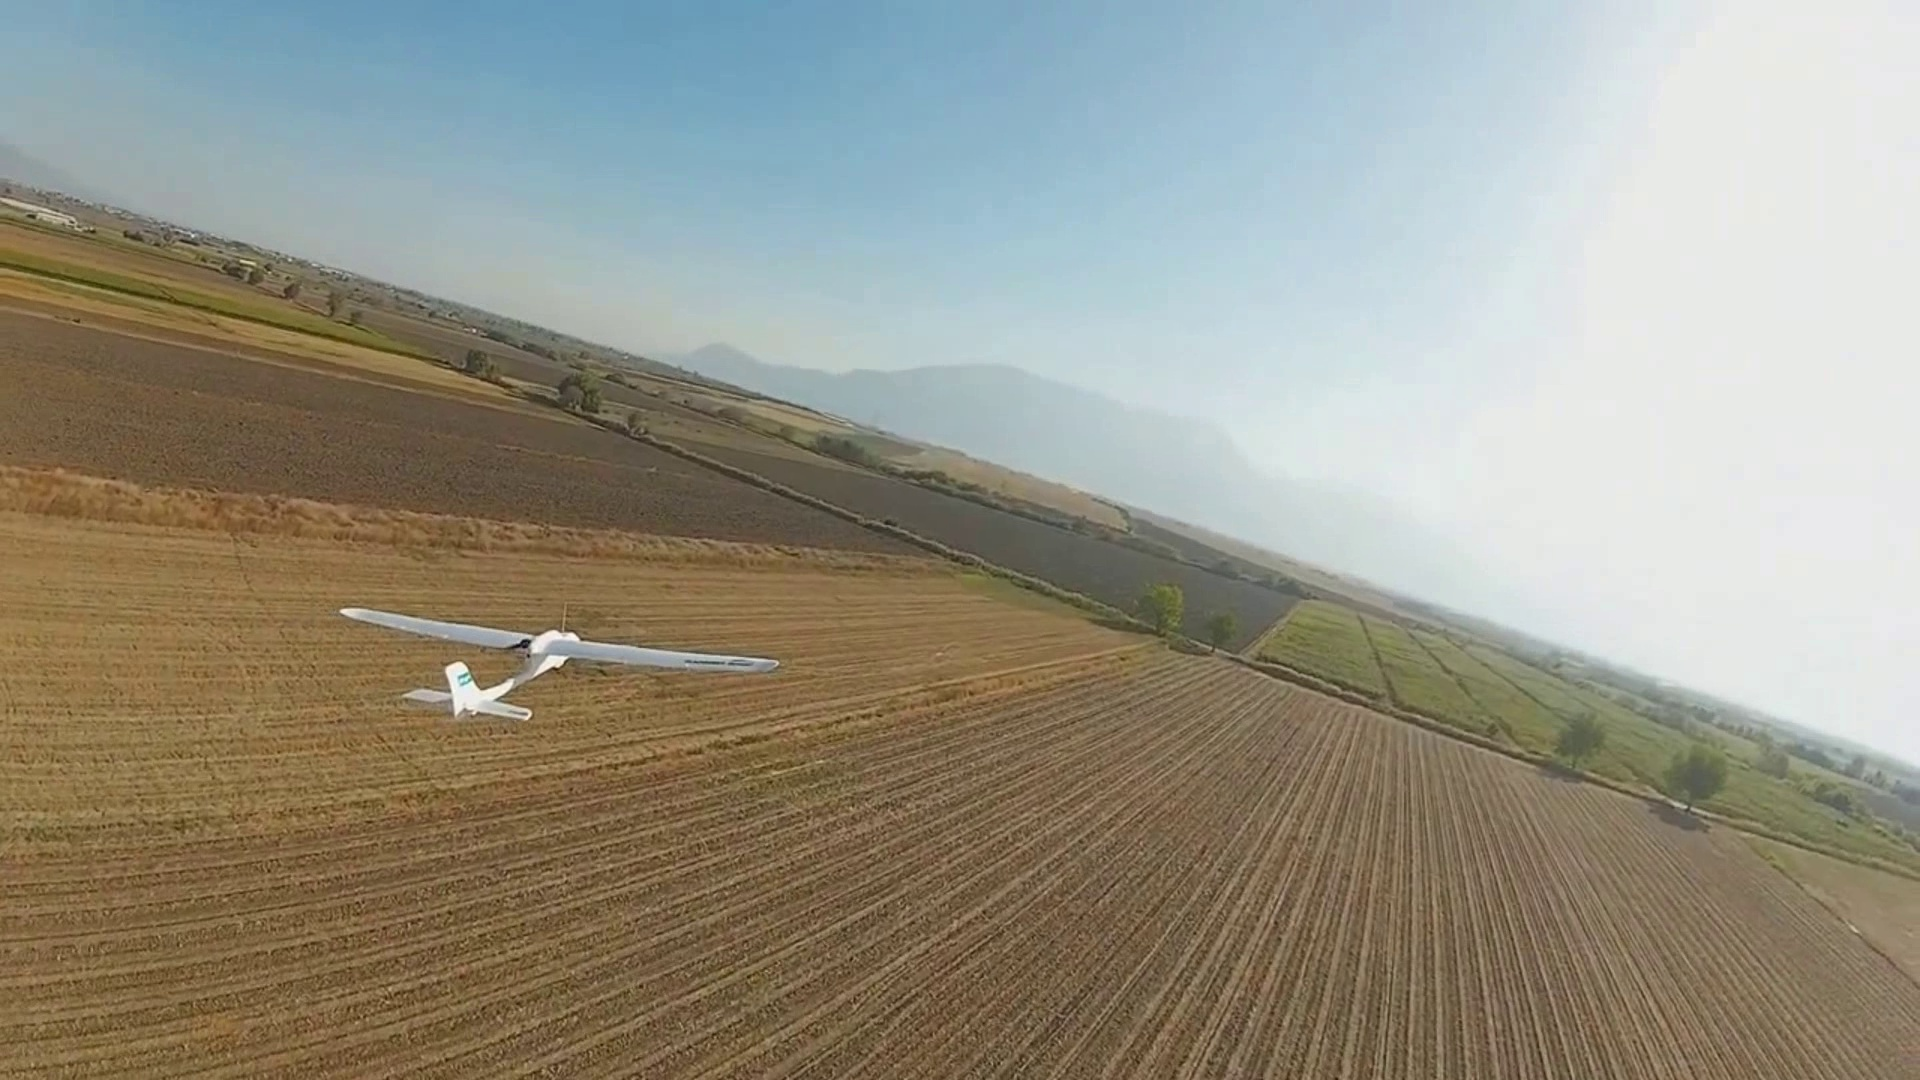airplane: (334, 604, 783, 717)
